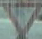Give way: (2, 2, 41, 37)
